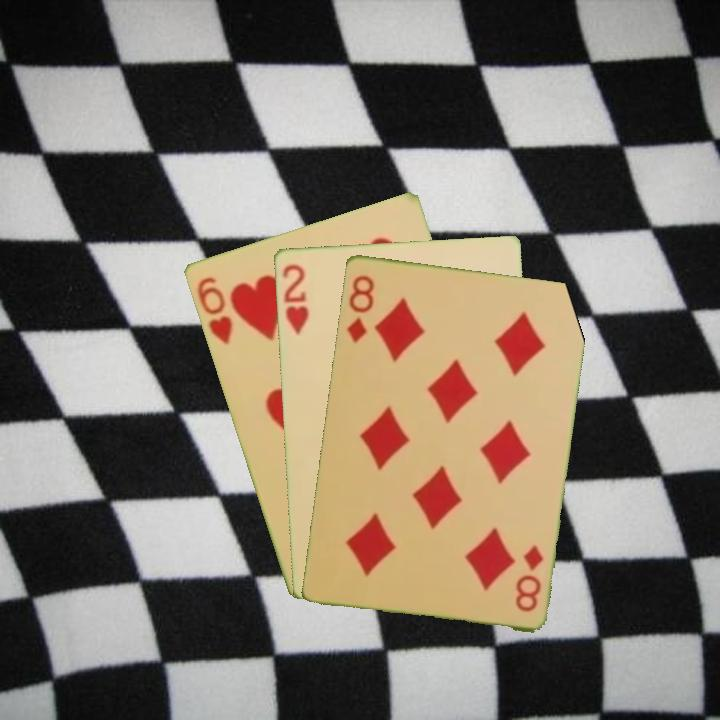2h: (278, 260, 311, 337)
6h: (193, 273, 235, 347)
8d: (342, 271, 377, 346), (511, 541, 546, 614)
